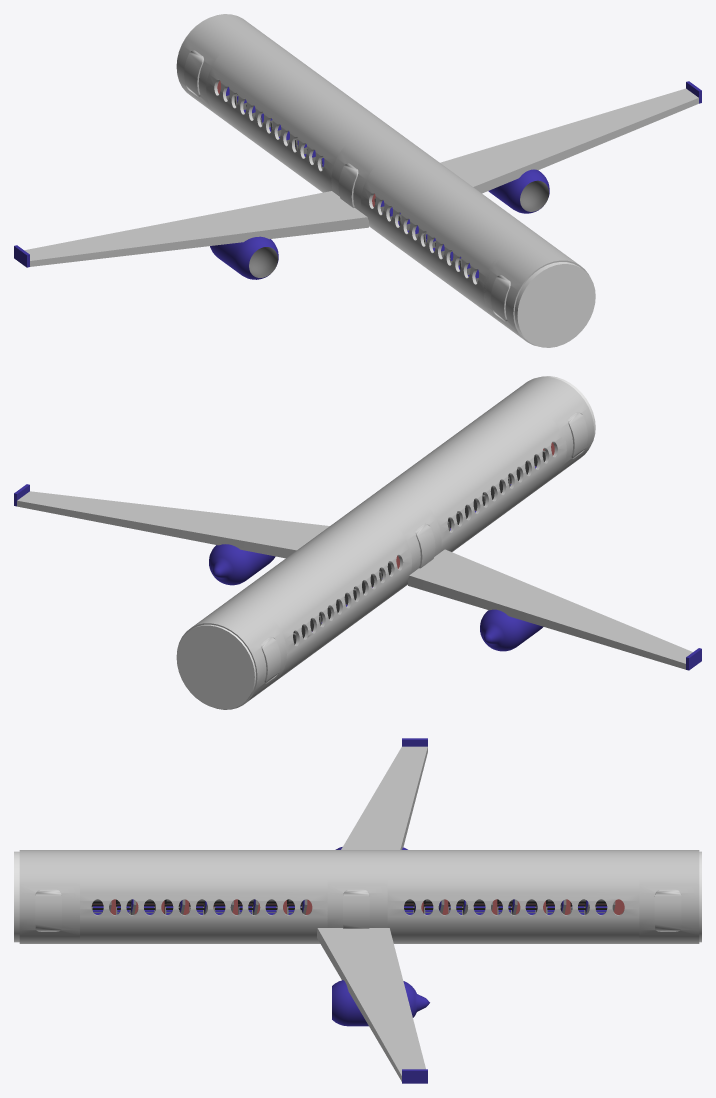
The model's file is PrototypePlane 1.fbx.
3 views of the same model, one above another, from view 1: azimuth 30°, elevation 25°; view 2: azimuth 150°, elevation 25°; view 3: azimuth 270°, elevation 25° (orthographic).
Visible parts, largest first — view 1: Cube_2, Body_1, frontbody_1, Wall, Bodywithdoors_2, Bodywithdoors_1, Bodywithdoors_2_2, Capsule, Capsule_2, Doors_1_2, Doors, Doors_1_3; view 2: Cube_2, Body_1, frontbody_1, Wall_1, Capsule, Bodywithdoors_1, Bodywithdoors_2, Bodywithdoors_2_2, Doors_1_2, Doors, Doors_1_3; view 3: Body_1, frontbody_1, Cube_2, Bodywithdoors_1, Bodywithdoors_2, Bodywithdoors_2_2, Capsule, Doors, Doors_1_2, floor, Doors_1_3, Wall.
Part boxes in pixels (left/top/right/bottom): Cube_2: left=14, top=81, right=701, bottom=267; Body_1: left=206, top=36, right=395, bottom=192; frontbody_1: left=361, top=149, right=551, bottom=320; Wall: left=514, top=262, right=595, bottom=347; Bodywithdoors_2: left=483, top=238, right=589, bottom=345; Bodywithdoors_1: left=176, top=14, right=272, bottom=114; Bodywithdoors_2_2: left=331, top=127, right=425, bottom=228; Capsule: left=210, top=169, right=549, bottom=279; Capsule_2: left=249, top=180, right=548, bottom=277; Doors_1_2: left=491, top=275, right=510, bottom=321; Doors: left=184, top=50, right=203, bottom=96; Doors_1_3: left=338, top=163, right=358, bottom=207; Cube_2: left=14, top=484, right=701, bottom=670; Body_1: left=222, top=510, right=411, bottom=682; frontbody_1: left=376, top=396, right=566, bottom=552; Wall_1: left=176, top=624, right=255, bottom=709; Capsule: left=209, top=544, right=543, bottom=651; Bodywithdoors_1: left=176, top=601, right=287, bottom=709; Bodywithdoors_2: left=501, top=376, right=593, bottom=476; Bodywithdoors_2_2: left=347, top=488, right=441, bottom=589; Doors_1_2: left=568, top=412, right=587, bottom=458; Doors: left=261, top=637, right=280, bottom=683; Doors_1_3: left=415, top=523, right=435, bottom=568; Body_1: left=387, top=850, right=639, bottom=943; frontbody_1: left=74, top=850, right=327, bottom=943; Cube_2: left=317, top=738, right=427, bottom=1083; Bodywithdoors_1: left=639, top=850, right=699, bottom=943; Bodywithdoors_2: left=19, top=850, right=79, bottom=943; Bodywithdoors_2_2: left=327, top=850, right=387, bottom=927; Capsule: left=332, top=847, right=429, bottom=1026; Doors: left=654, top=889, right=681, bottom=931; Doors_1_2: left=35, top=889, right=61, bottom=931; floor: left=92, top=899, right=624, bottom=914; Doors_1_3: left=343, top=889, right=369, bottom=928; Wall: left=14, top=851, right=19, bottom=942.
Bounding box in the file's own units: 2172 × 314 × 1899.
